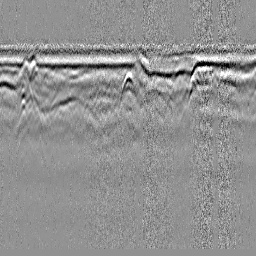cavity: (119, 70, 138, 105)
